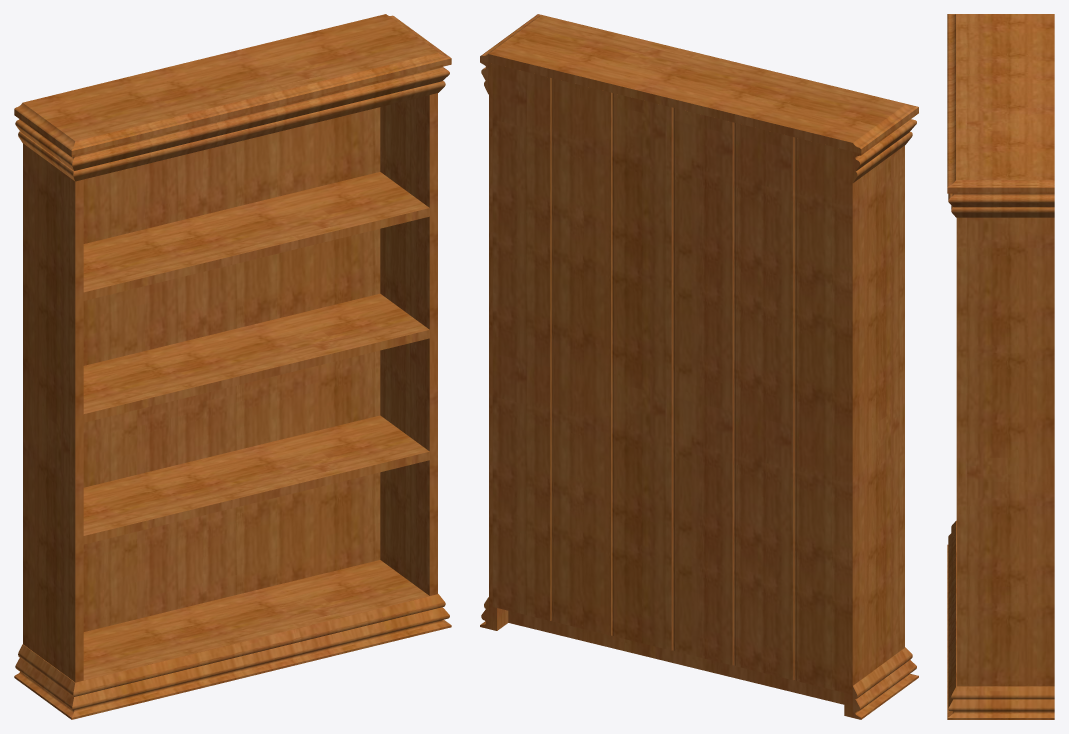
The model's file is bookshelf_nice.fbx.
3 renders of one model, left to right at view 1: azimuth 30°, elevation 25°; view 2: azimuth 150°, elevation 25°; view 3: azimuth 270°, elevation 25°, orthographic. The views are drawn at different scales.
Parts seen in each view (by area): view 1: group_2; view 2: group_2; view 3: group_2.
Part boxes in pixels (left/top/right/bottom): group_2: left=14, top=14, right=451, bottom=719; group_2: left=480, top=14, right=918, bottom=719; group_2: left=947, top=14, right=1054, bottom=719.
Size of the model in its own units: 87.8 by 127 by 23.
1 material, 1 textured.
